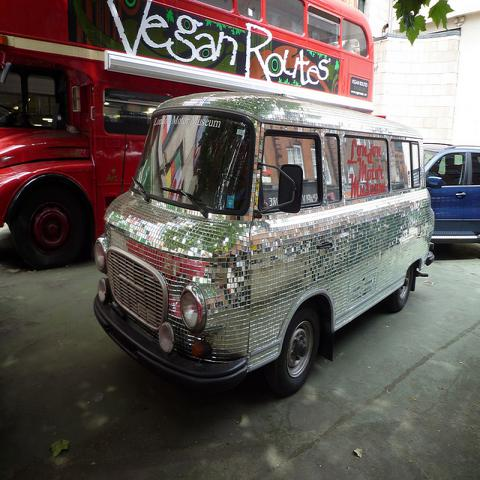bus: (1, 1, 375, 266)
car: (424, 141, 479, 243)
